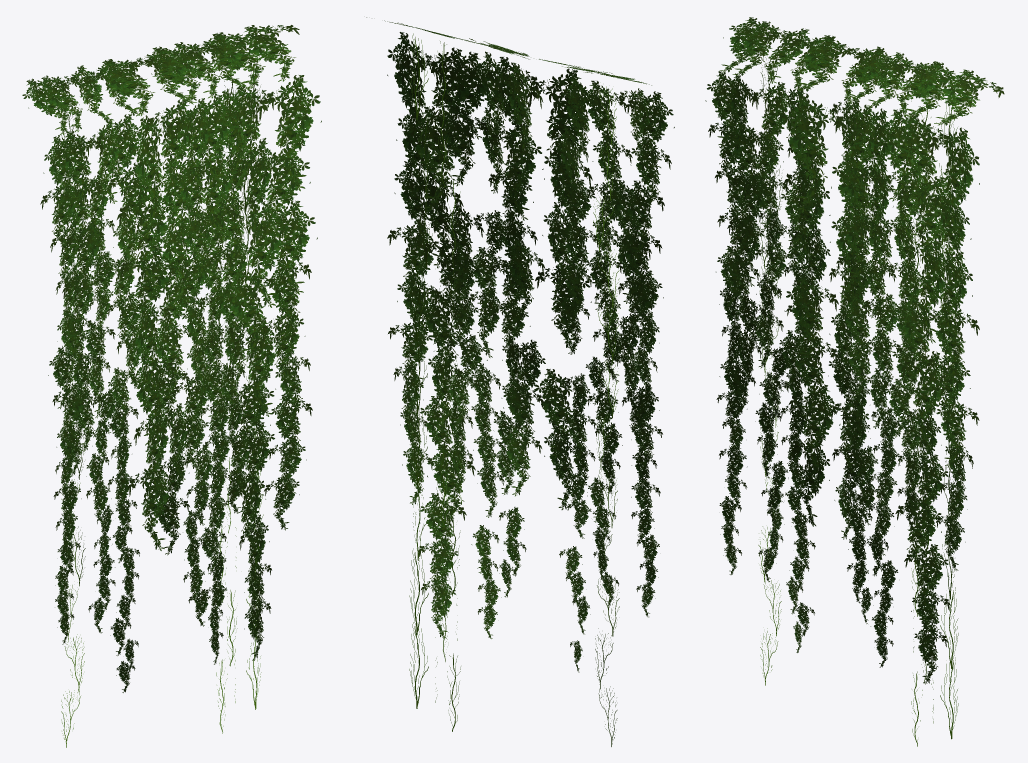
File: Curtain_B.fbx
The picture shows the model from 3 angles, left to right: view 1: azimuth 30°, elevation 25°; view 2: azimuth 150°, elevation 25°; view 3: azimuth 330°, elevation 25°; orthographic projection. The views are drawn at different scales.
Parts seen in each view (by area): view 1: Curtain_B_LOD0; view 2: Curtain_B_LOD0; view 3: Curtain_B_LOD0.
Part boxes in pixels (x1,y1,x2,y2): Curtain_B_LOD0: (22, 25, 321, 747); Curtain_B_LOD0: (366, 17, 674, 746); Curtain_B_LOD0: (705, 17, 1004, 746).
Size of what is drawn, in the model's own units: 3.2 by 7.5 by 0.8407.
2 materials, 2 textured.
